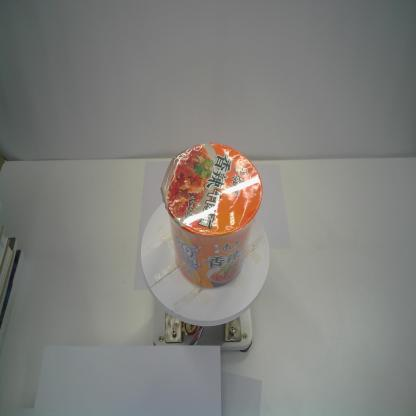Instant Noodles: (159, 140, 264, 291)
